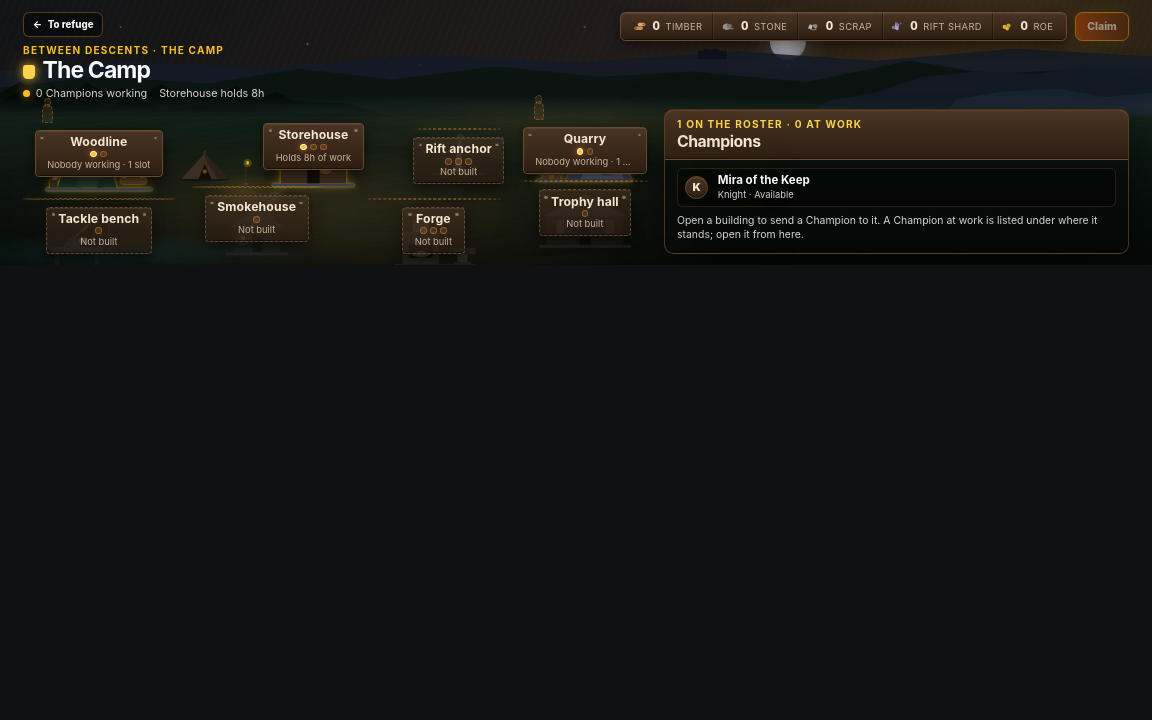
Test: CampScreen › shows the sheet a Champion would work a job with, and sends it there
This screenshot has width=1152, height=720.
Step 1. Click the button "Woodline Nobody working · 1 slot" → coordinates (99, 145), box [23,116,174,174]
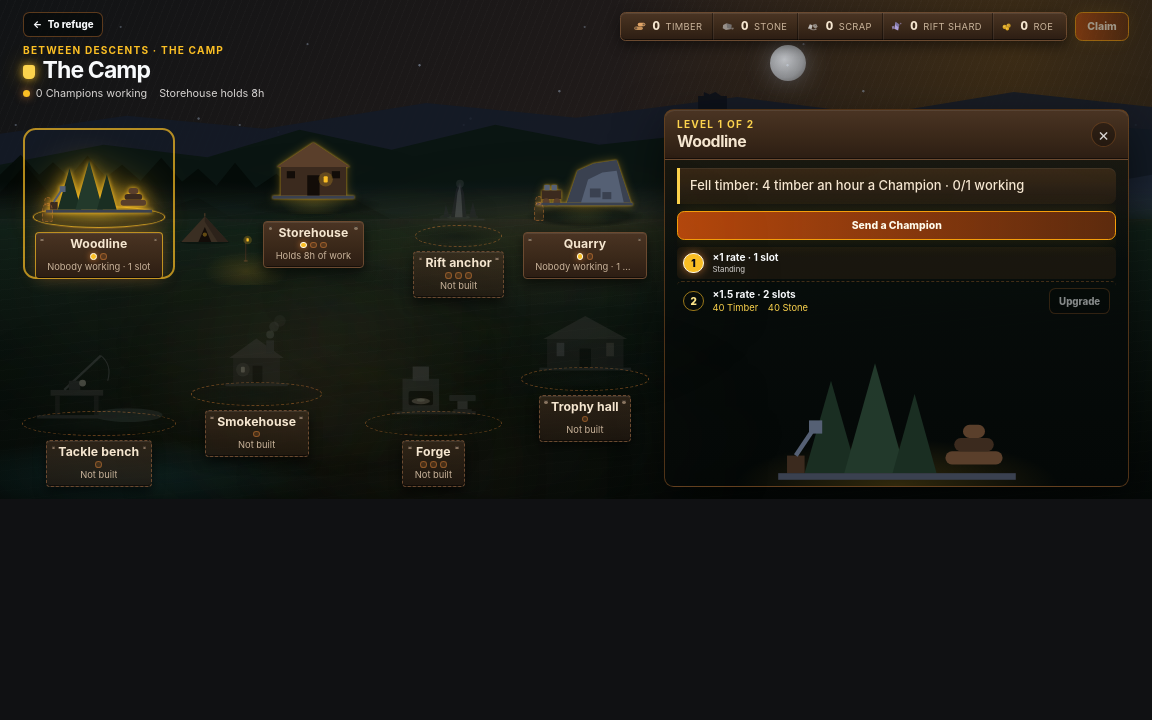
Expected: the heading "Woodline" is shown, [677,132,746,151]
Step 2. Click the button "Send a Champion" → coordinates (897, 225), box [677,211,1116,240]
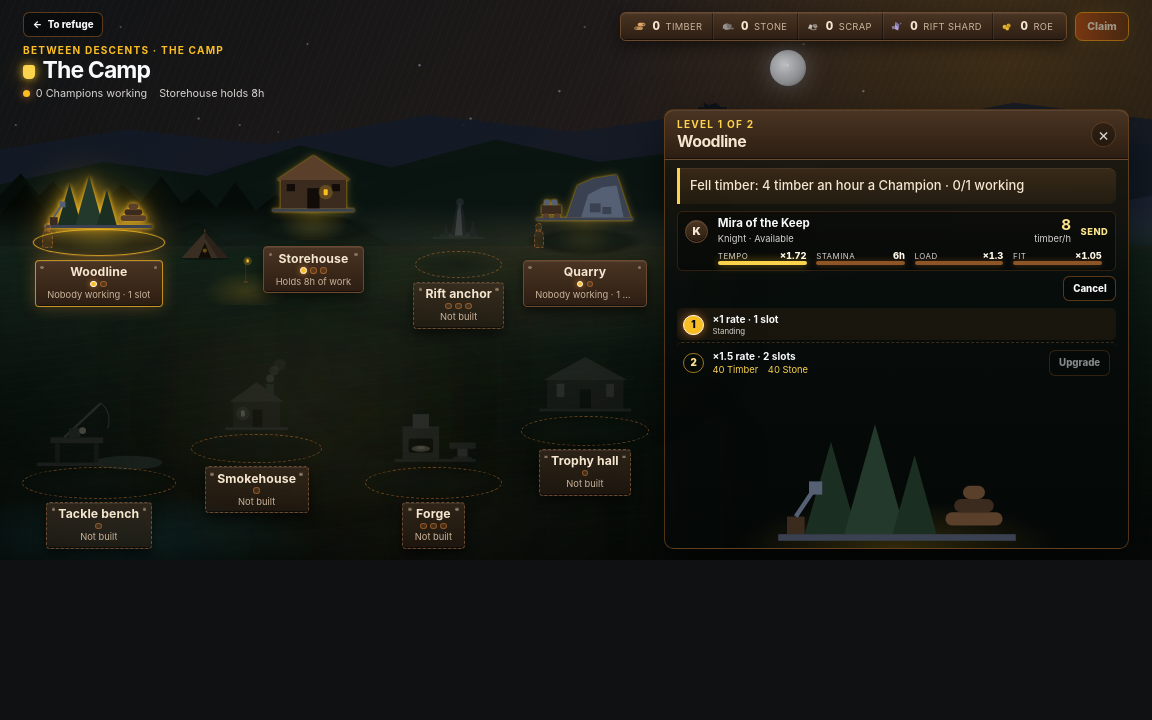
Expected: the button "Mira of the Keep" shows "Tempo ×1.72 Stamina 6h Load ×1.3 Fit ×1.05", [677,211,1116,271]
Expected: the button "Mira of the Keep" shows "8 timber/h", [677,211,1116,271]
Step 3. Hover over the text "Tempo" → coordinates (733, 256), box [718,251,748,261]
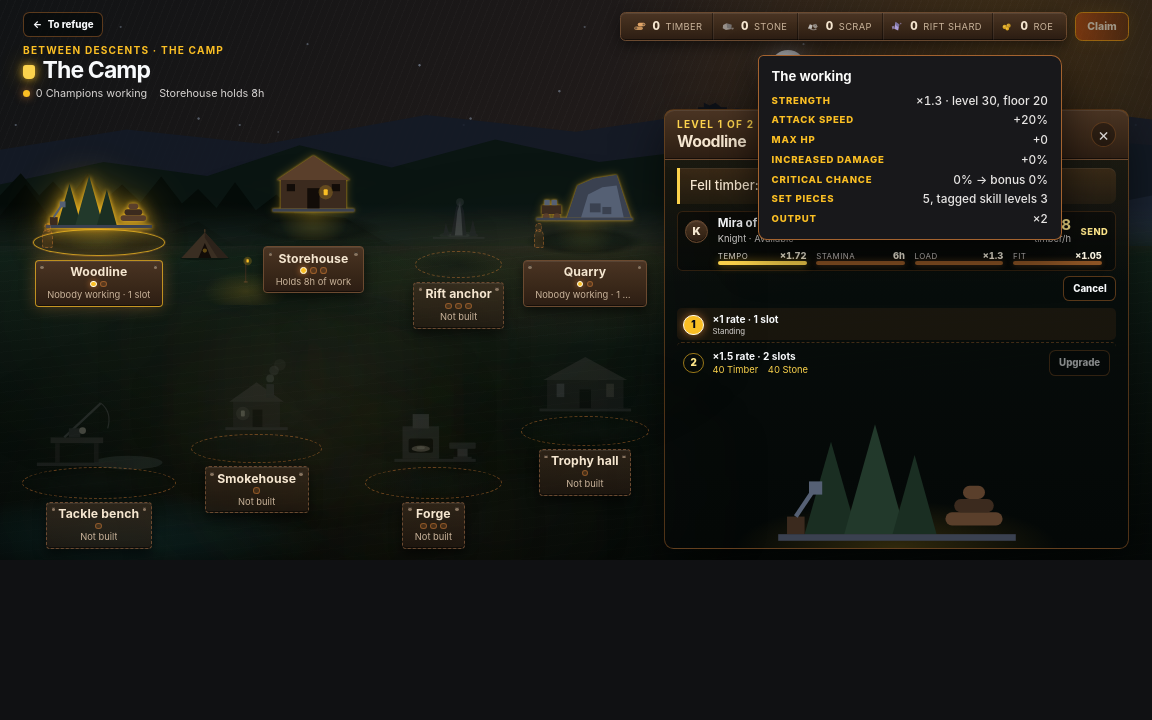
Expected: the tooltip shows "Output ×2", [758,55,1062,240]
Step 4. Move the pointer off the text "Tempo", box [718,251,748,261]
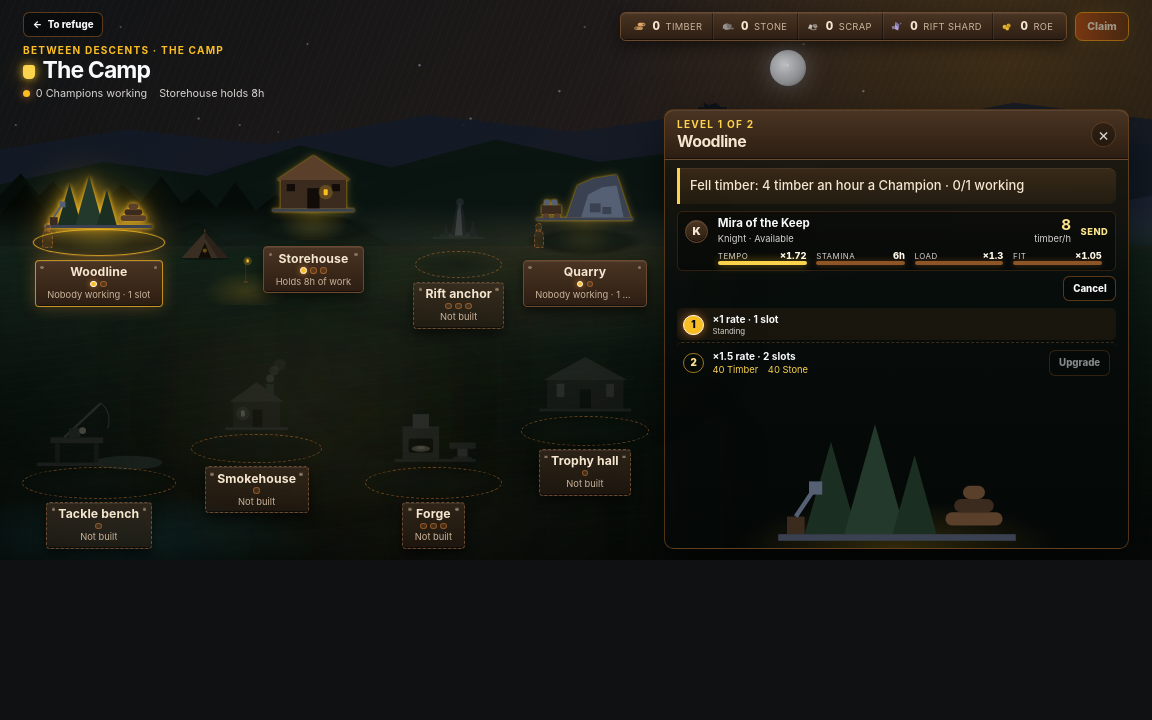
Expected: the tooltip is gone
Step 5. Click the button "Mira of the Keep" → coordinates (764, 223), box [677,211,1116,271]
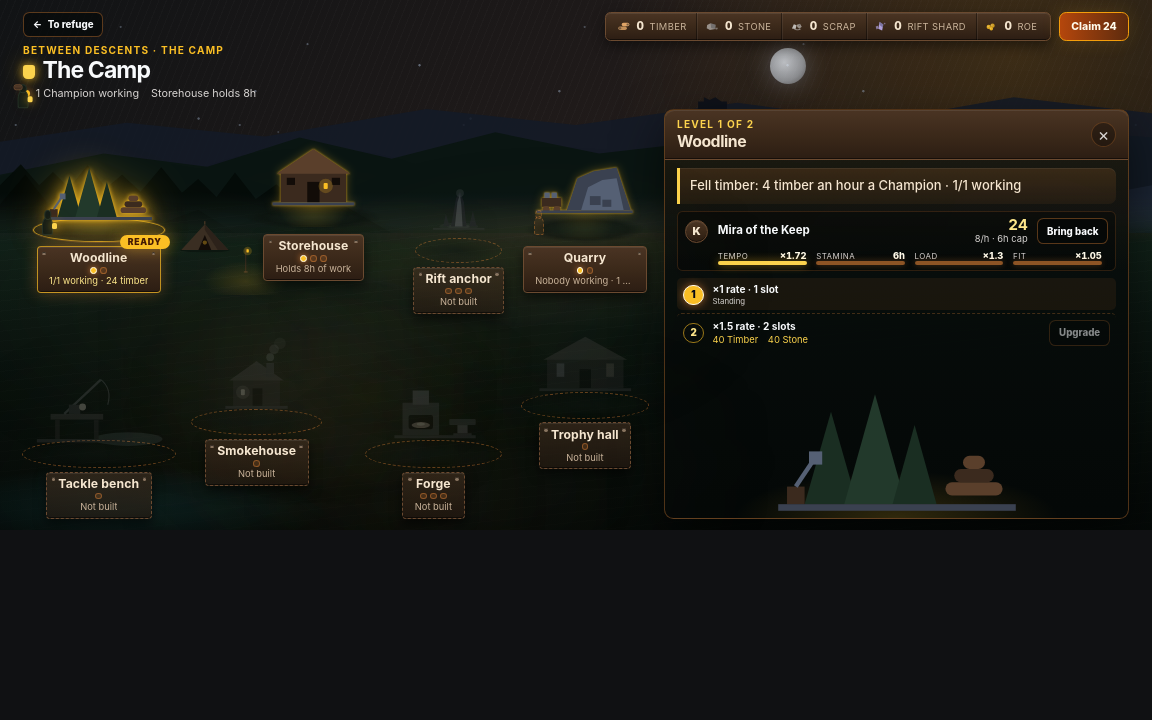
Expected: the button "Bring back" is shown, [1037,218,1108,244]
Expected: the text "1/1 working" is shown, [49,275,148,286]
